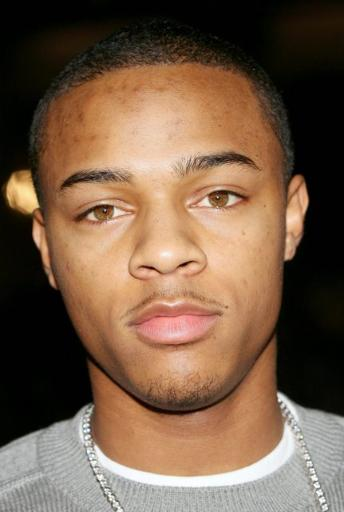left_eye: (193, 188, 251, 215)
left_lip_corner: (210, 304, 229, 326)
right_eye: (74, 200, 134, 228)
right_lip_corner: (125, 318, 141, 335)
